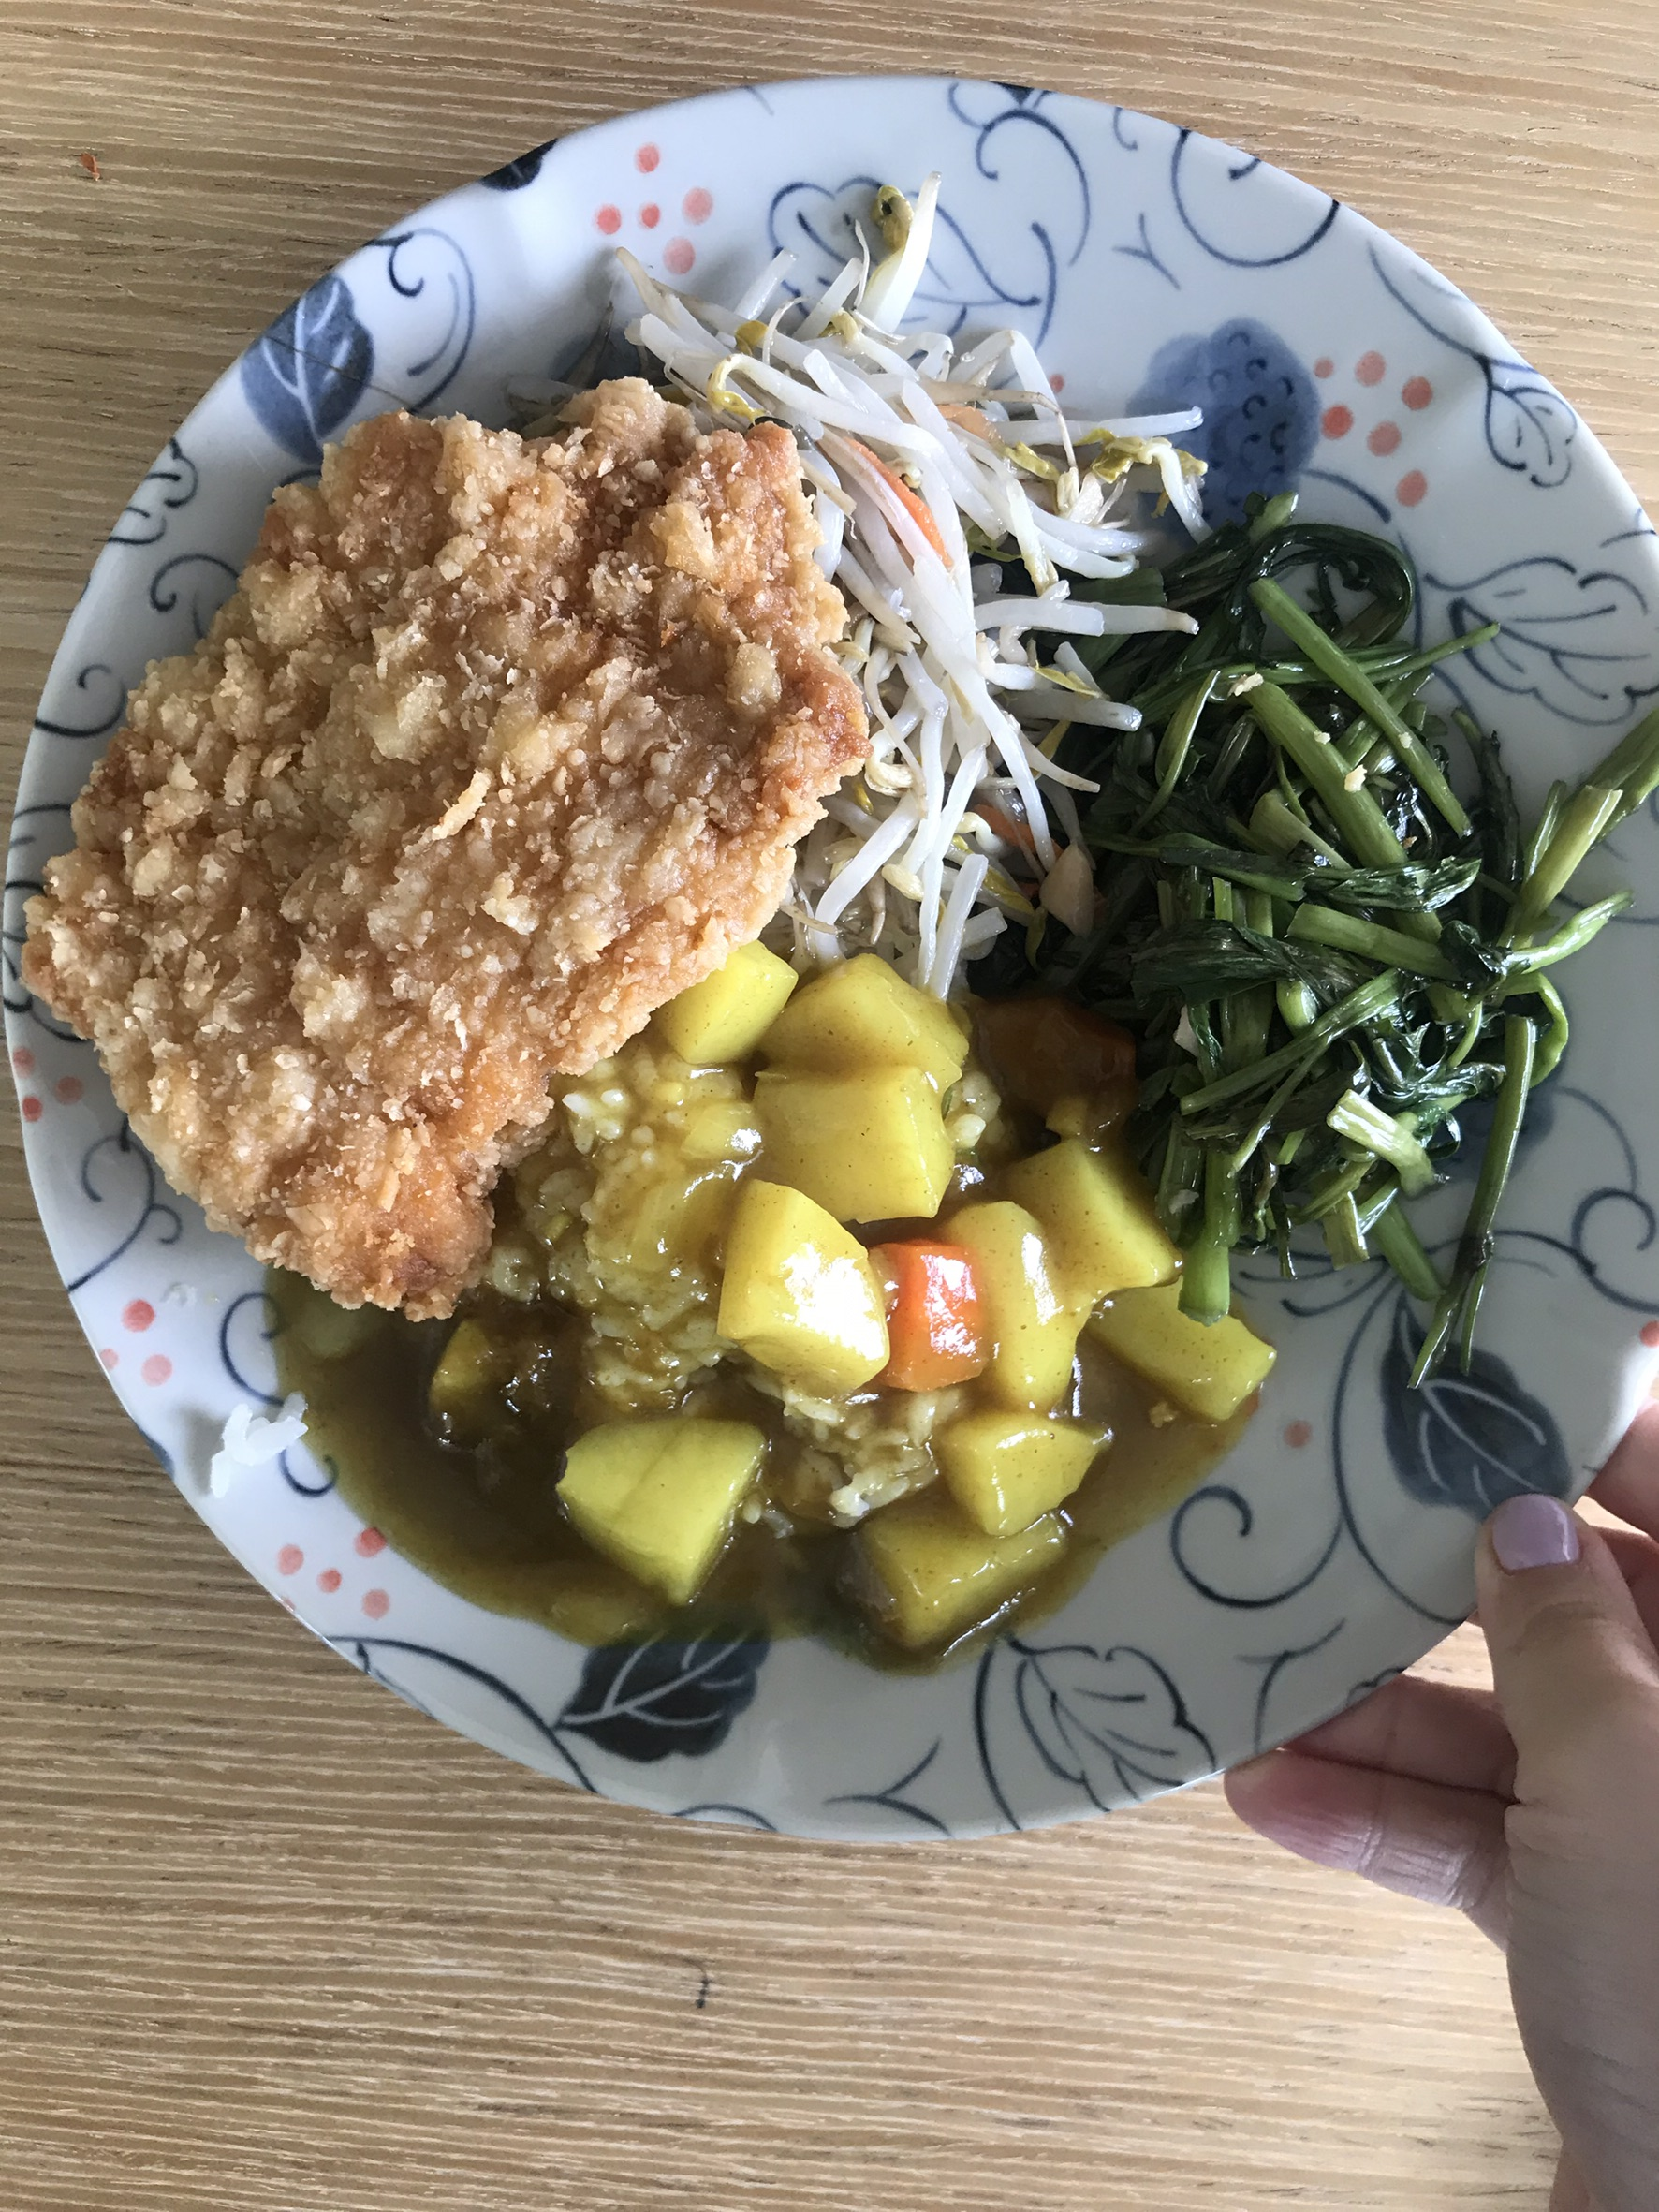curry: (596, 1053, 1110, 1576)
fried_chicken: (59, 474, 756, 1093)
mung_bean_sprouts: (826, 181, 1082, 826)
water_spinach: (1103, 605, 1518, 1243)
